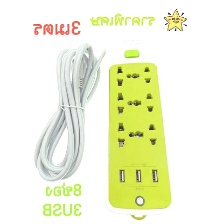three_eye_plug: (102, 30, 180, 220)
